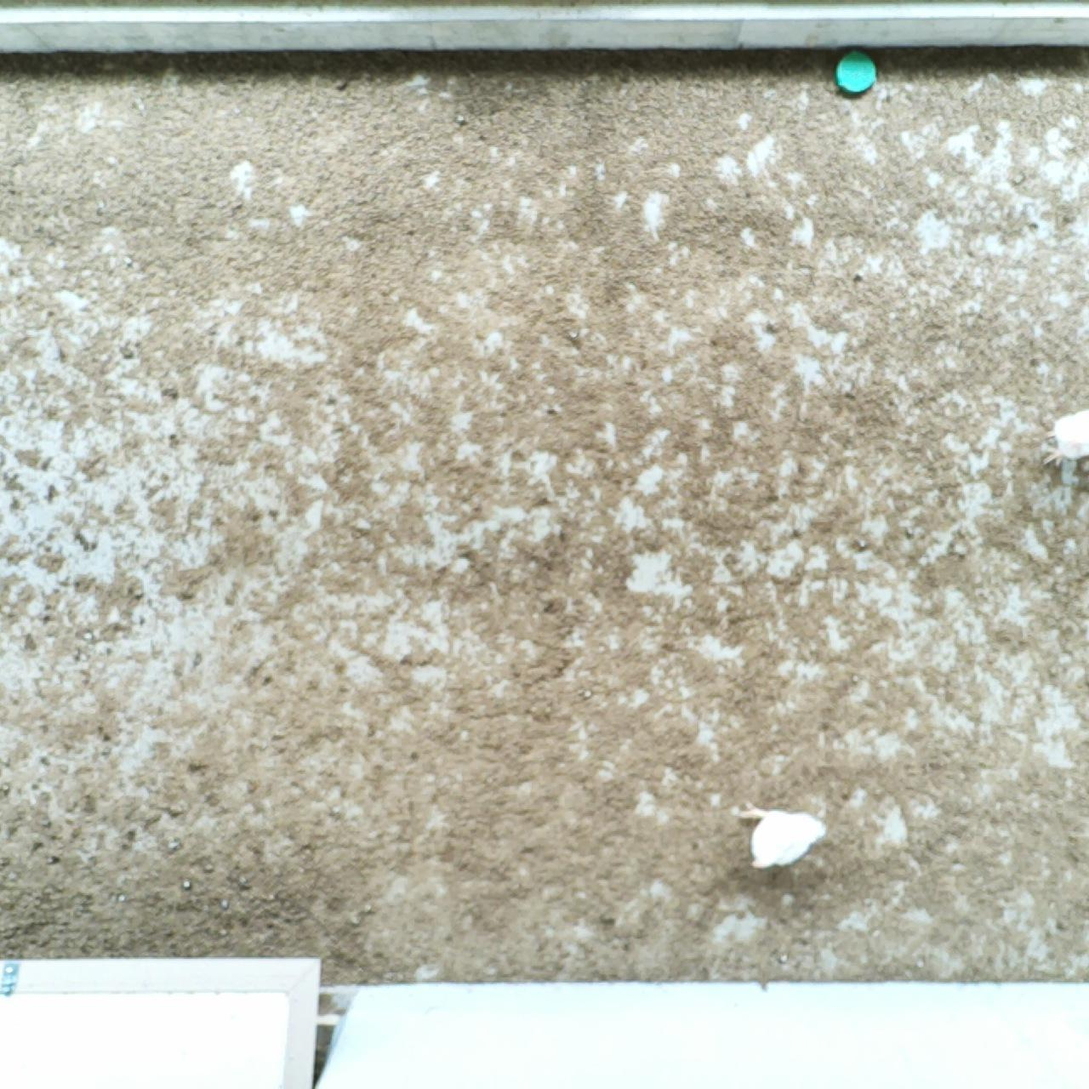chicken: (732, 800, 831, 872), (1041, 401, 1089, 473)
